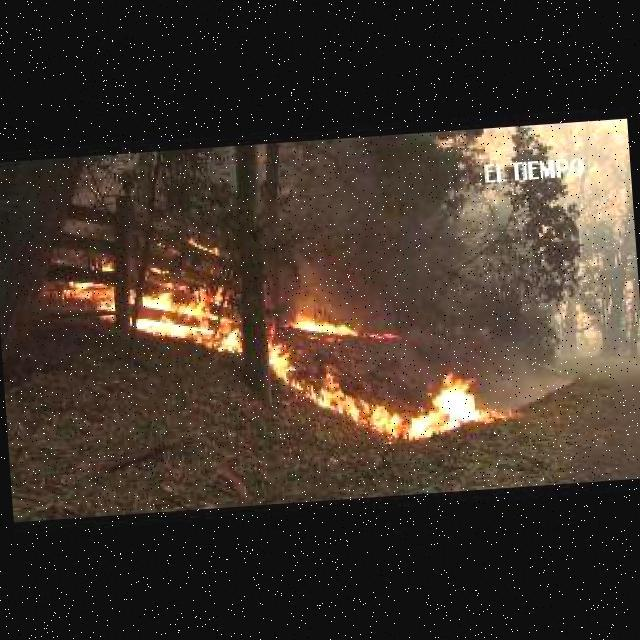Fire: (305, 352, 496, 447), (131, 272, 244, 357), (266, 322, 301, 390), (67, 279, 118, 322), (290, 310, 358, 341), (188, 235, 221, 259), (365, 327, 402, 341), (97, 255, 116, 272)
